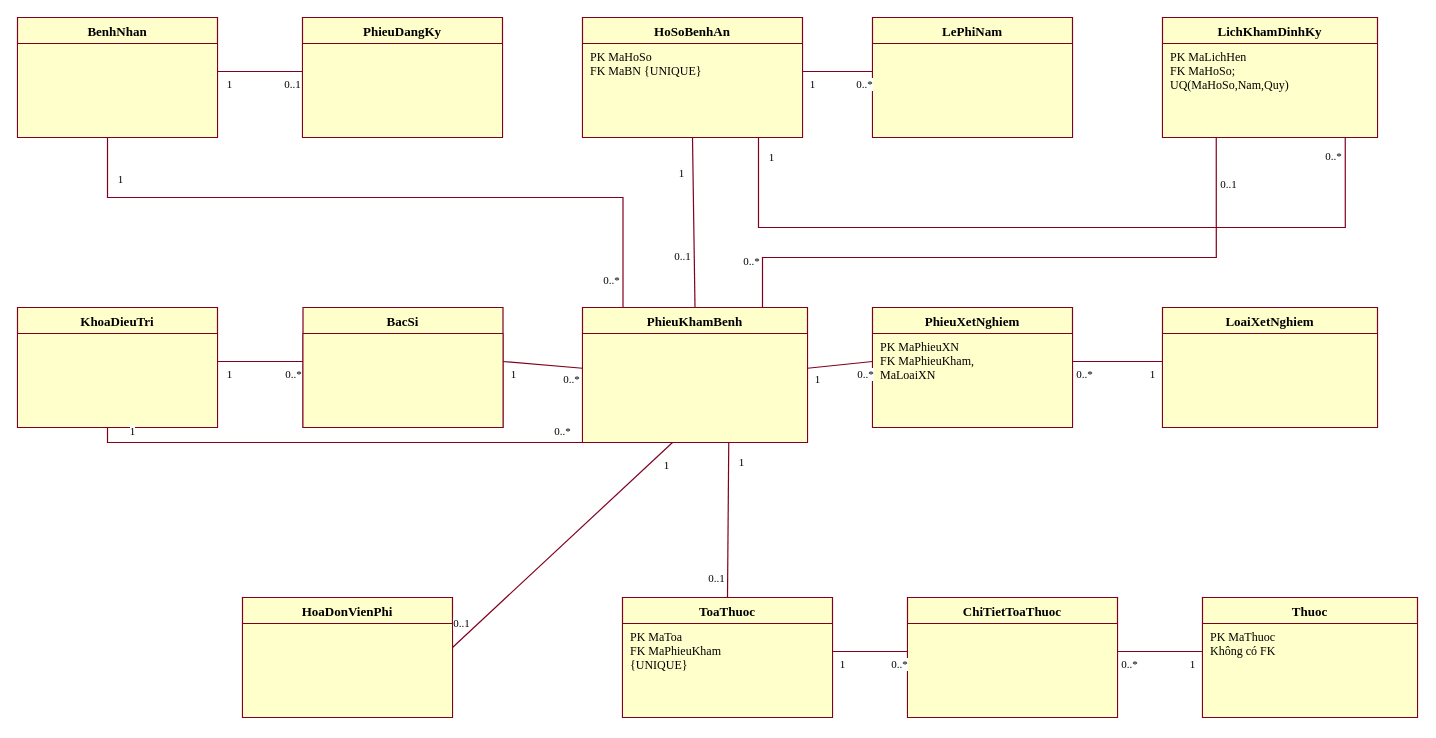
Some shapes in this 1436 by 738 pixel diagram are drawn without their labels. Each missing label, with the centre of its shape:
PK MaBacSi FK MaKhoa: pixel 402 380
PK MaBN Không có FK: pixel 117 90
PK MaHoaDon FK MaPhieuKham {UNIQUE}: pixel 347 670
PK MaKhoa Không có FK: pixel 117 380
PK MaLePhi FK MaHoSo; UQ(MaHoSo,Nam): pixel 972 90
PK MaLoaiXN Không có FK: pixel 1270 380
PK MaPhieuDK FK MaBN {UNIQUE}: pixel 402 90
PK MaPhieuKham FK MaHoSo, MaKhoa FK MaBacSi, MaLichHen?: pixel 695 387
PK MaToa + MaThuoc FK MaToa, MaThuoc PK (MaToa,MaThuoc): pixel 1012 670
